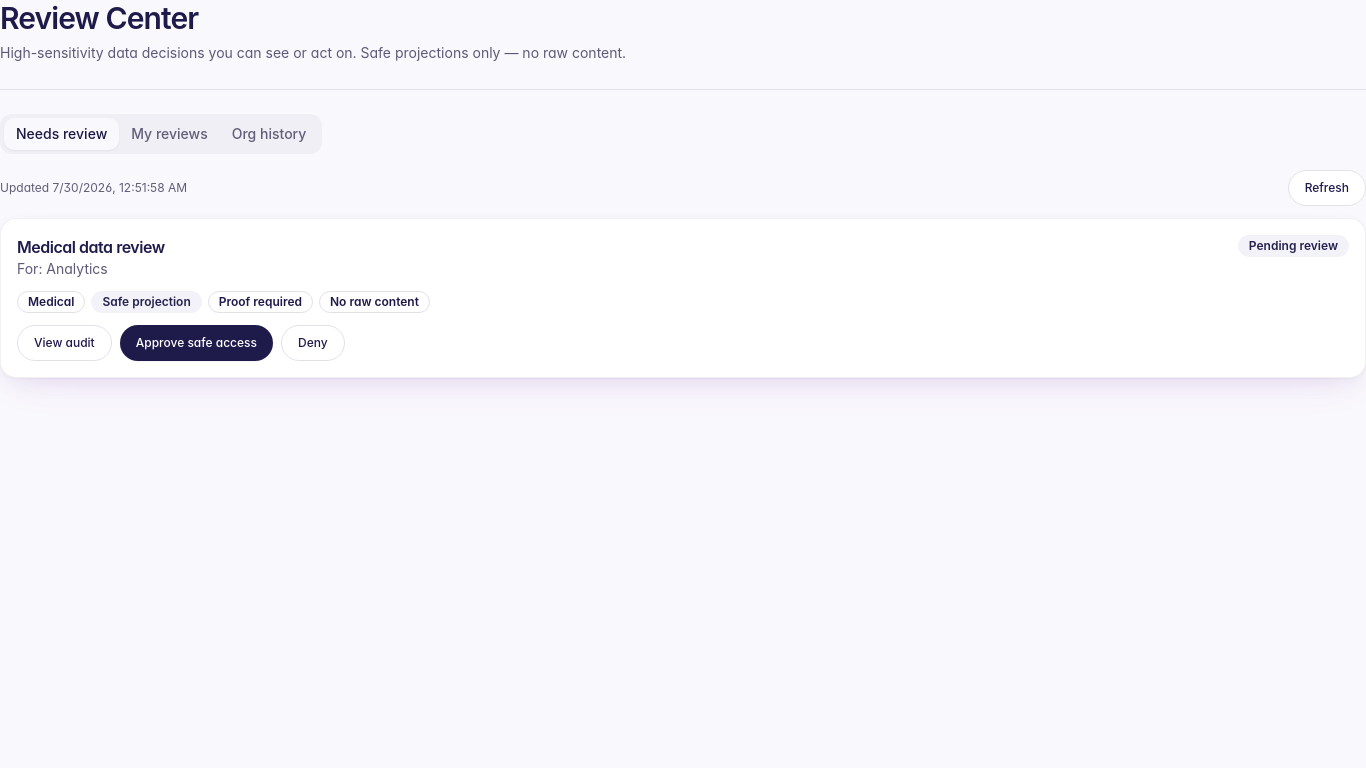
Test: Review Center — audit drawer + no-leak › no raw content / payload / storage / embedding / hash leaks anywhere on the surface
This screenshot has width=1366, height=768.
Step 1. Click the button with test id "review-view-audit" → (64, 343), box [17,325,112,361]
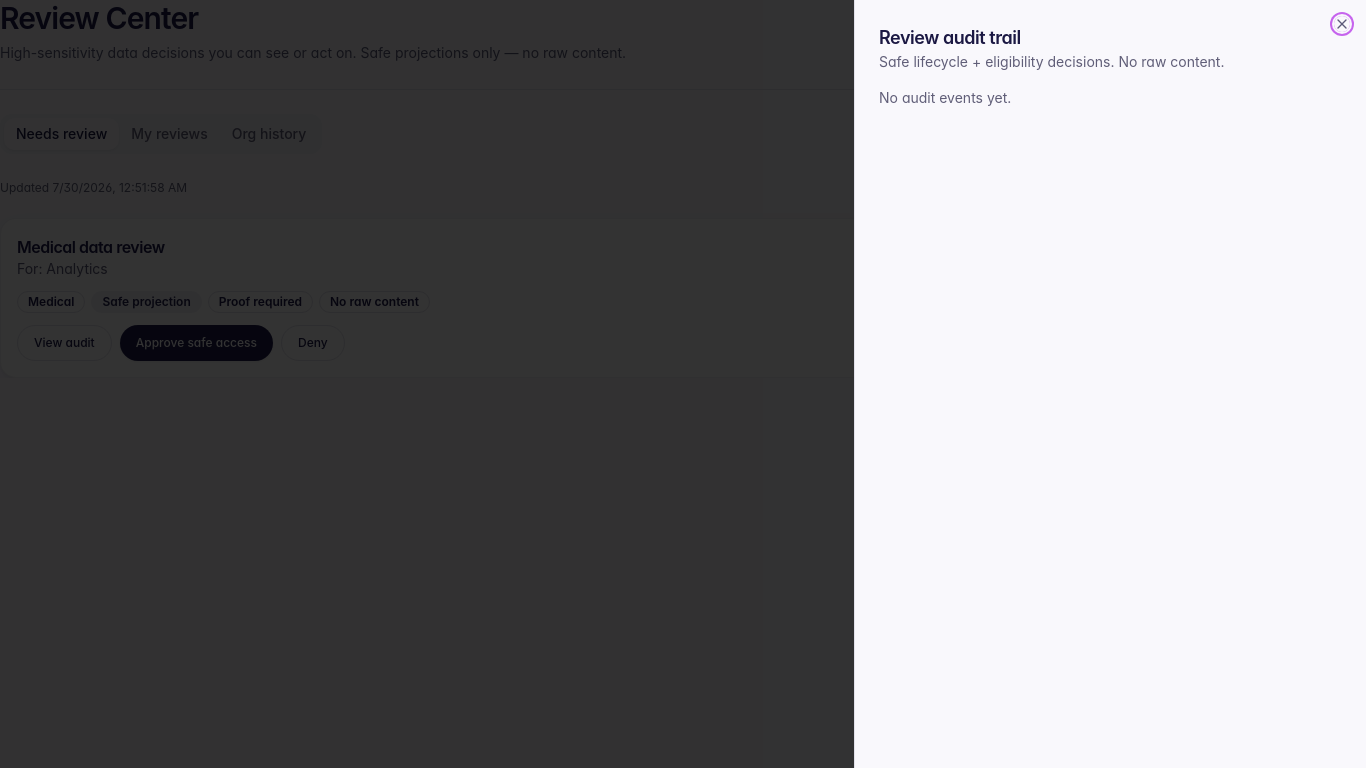
Result: the dialog with test id "review-audit-drawer" is shown at [854,0,1365,767]
